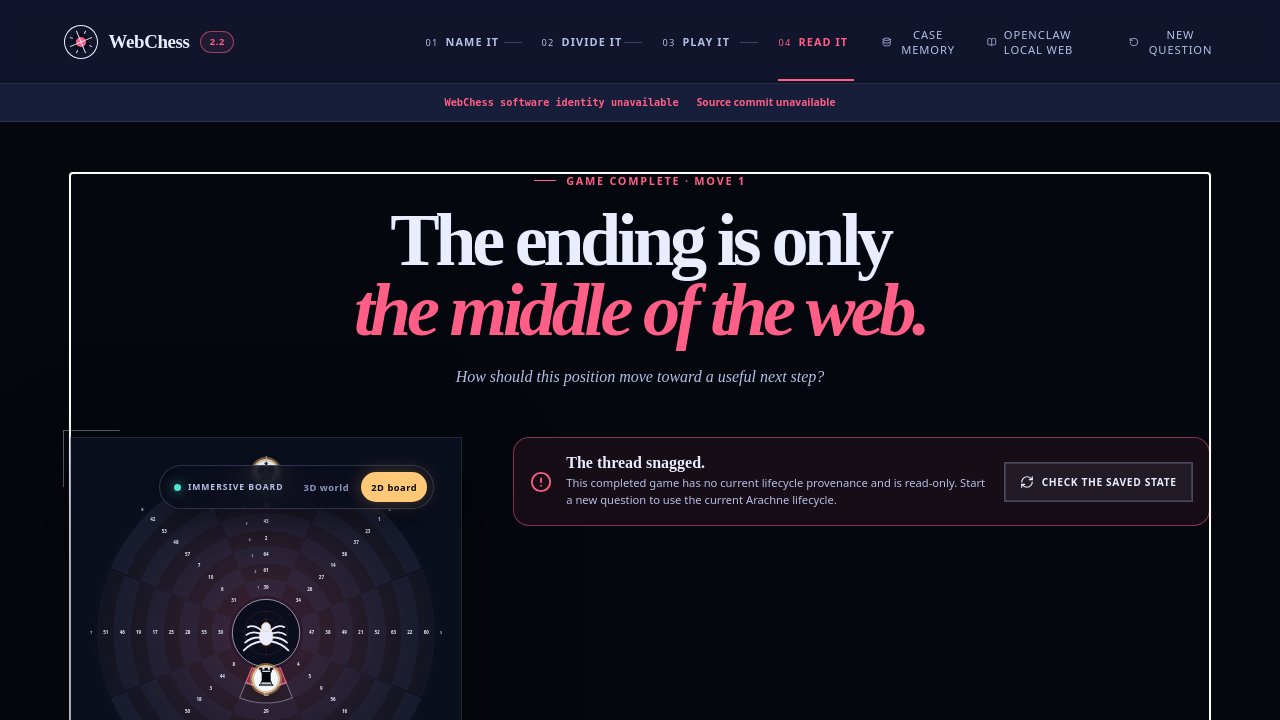
it: durable WebChess client flow › leaves a historical answering game through a local New Question reset
Expected: the message that starts with "The thread snagged." shows "no current lifecycle provenance and is read-only", 566,475 -> 985,507
Click the button "New question".
click(1172, 42)  # box 1121,18 -> 1222,64
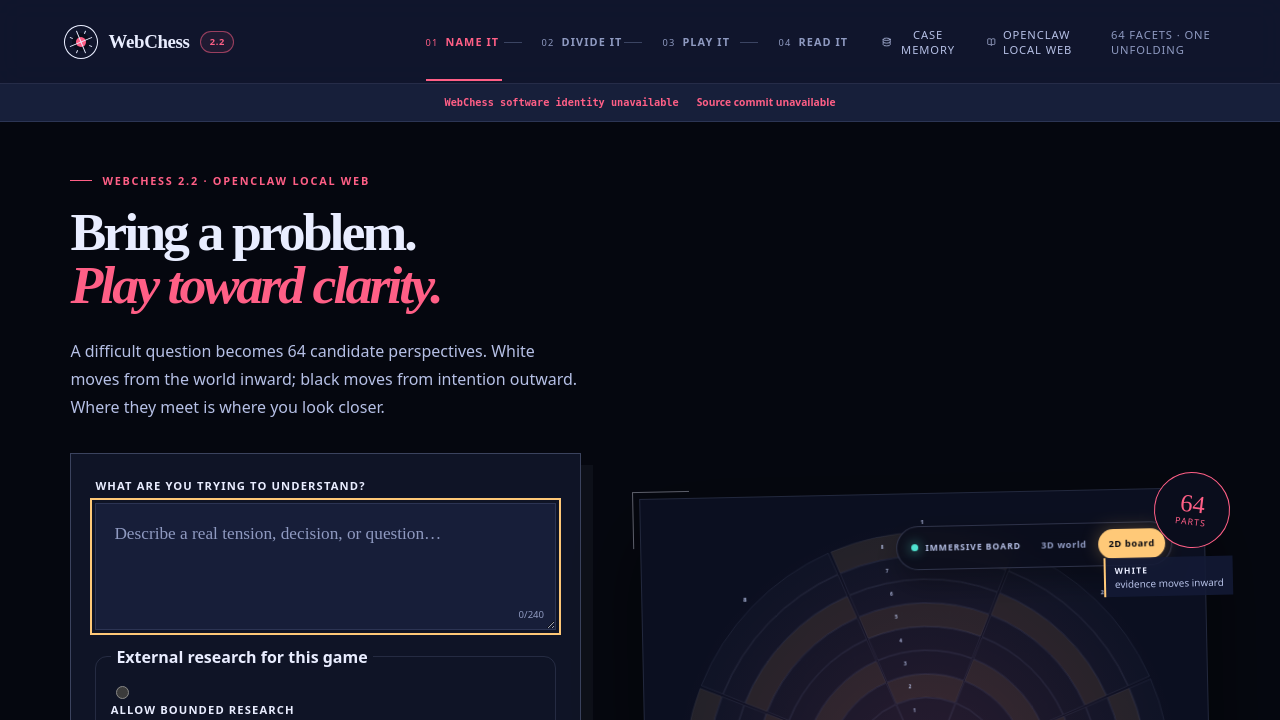
Expected: the text box labelled "What are you trying to understand?" is shown, 95,503 -> 556,630
